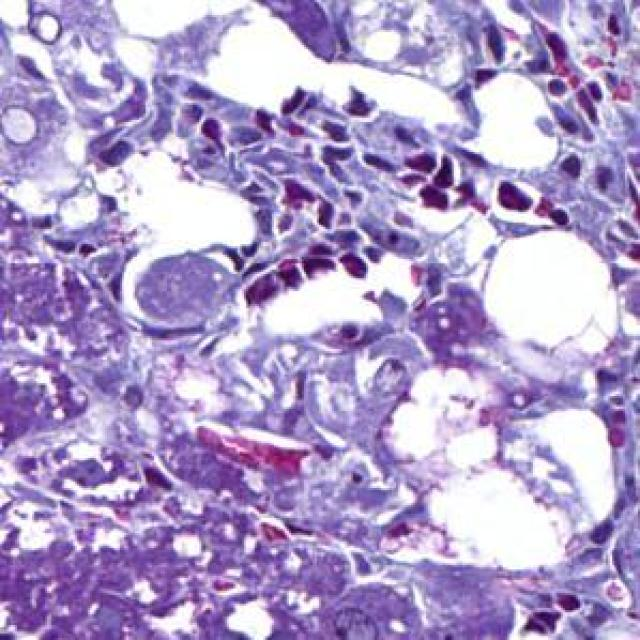ballooning: (479, 220, 621, 377)
